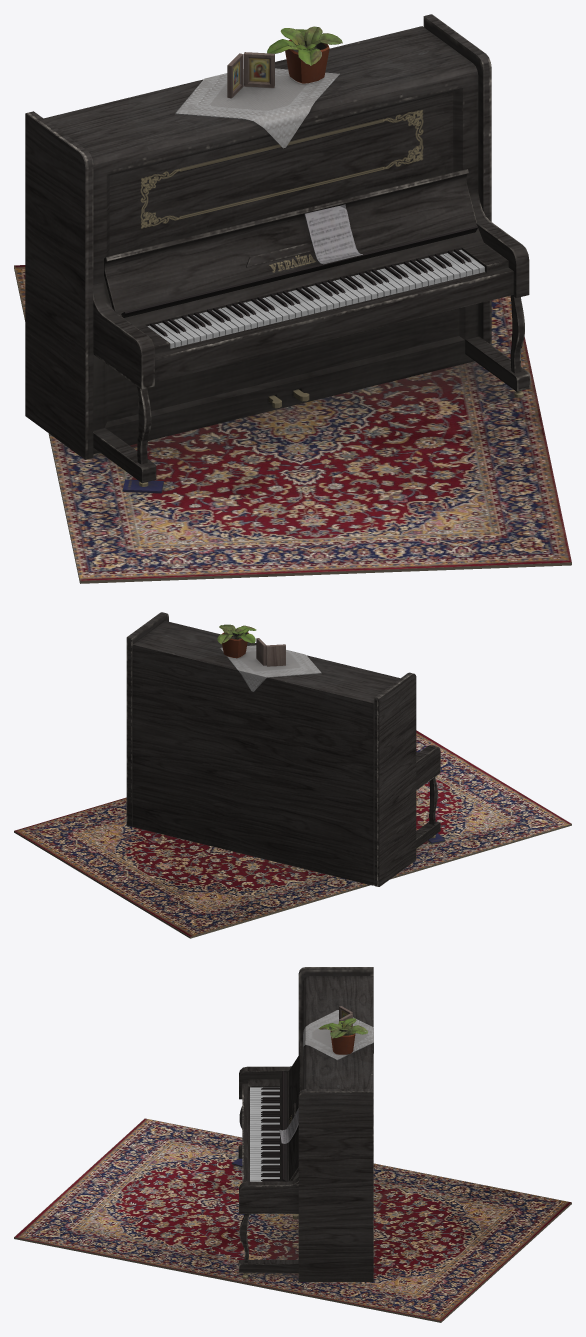
The model's file is compressed_piano_ukraine.glb.
The picture shows the model from 3 angles, top to bottom: view 1: azimuth 30°, elevation 25°; view 2: azimuth 150°, elevation 25°; view 3: azimuth 270°, elevation 25°; orthographic projection. The views are drawn at different scales.
Parts seen in each view (by area): view 1: piano_03_low, piano_01_low, piano_02_low, piano_04_low; view 2: piano_01_low, piano_03_low, piano_02_low; view 3: piano_03_low, piano_02_low, piano_01_low, piano_04_low.
Part boxes in pixels (x1,y1,x2,y2): piano_03_low: [14, 26, 571, 583]; piano_01_low: [44, 26, 524, 464]; piano_02_low: [25, 14, 491, 493]; piano_04_low: [109, 225, 523, 486]; piano_01_low: [132, 621, 437, 885]; piano_03_low: [14, 624, 571, 938]; piano_02_low: [126, 612, 445, 886]; piano_03_low: [14, 1018, 571, 1322]; piano_02_low: [231, 967, 373, 1281]; piano_01_low: [239, 976, 373, 1262]; piano_04_low: [242, 1071, 298, 1278].
Size of the model in its own units: 4.72 by 2.33 by 5.49.
1 material, 1 textured.
